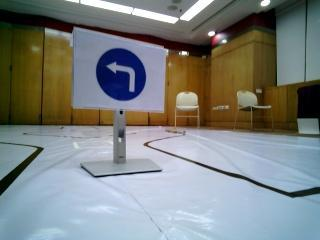left: (81, 37, 165, 111)
